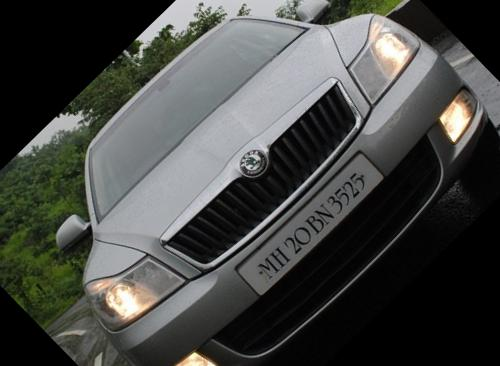plate: (221, 139, 394, 310)
